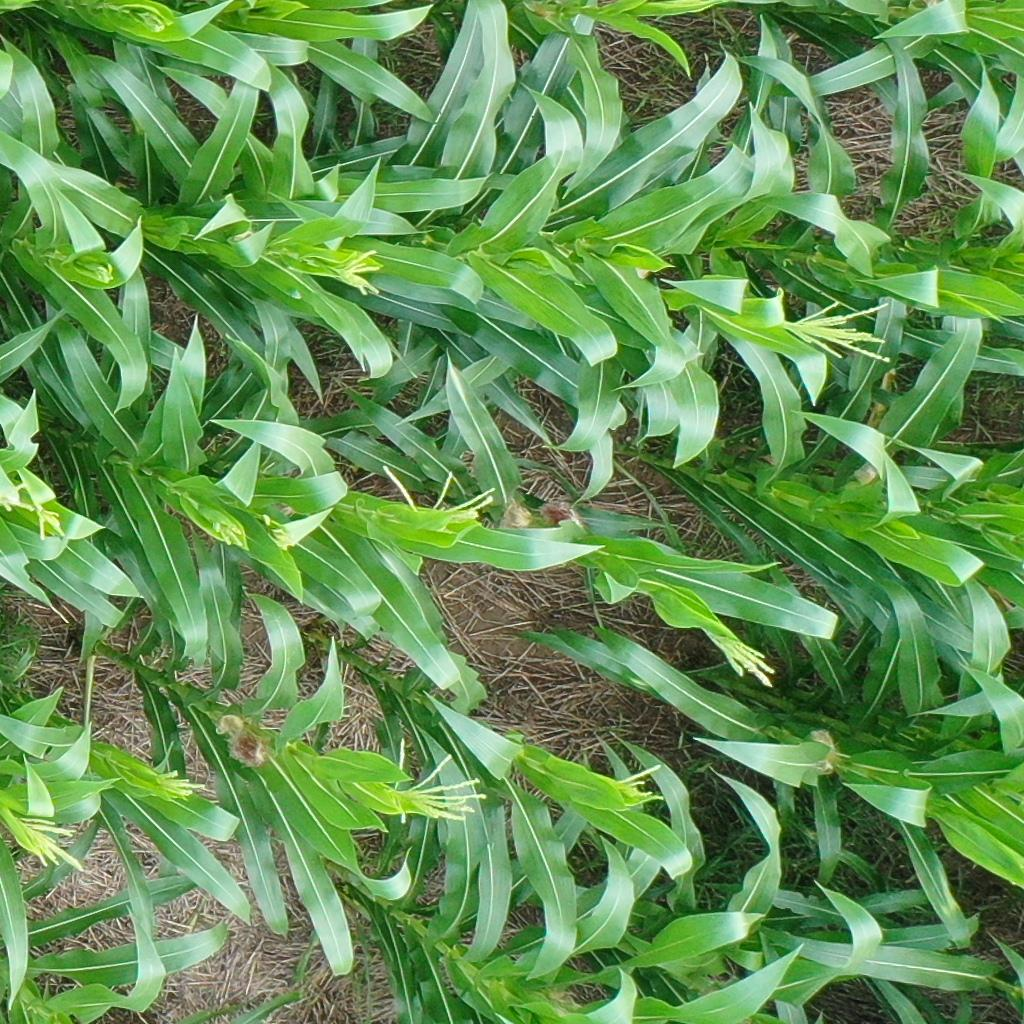Tassel: (386, 736, 488, 831), (377, 455, 492, 536), (777, 292, 899, 366), (703, 620, 778, 687), (15, 810, 87, 872), (1, 481, 63, 540), (326, 246, 384, 302), (140, 760, 206, 807), (614, 761, 665, 809), (204, 512, 248, 547), (265, 520, 297, 551), (92, 262, 115, 284)
